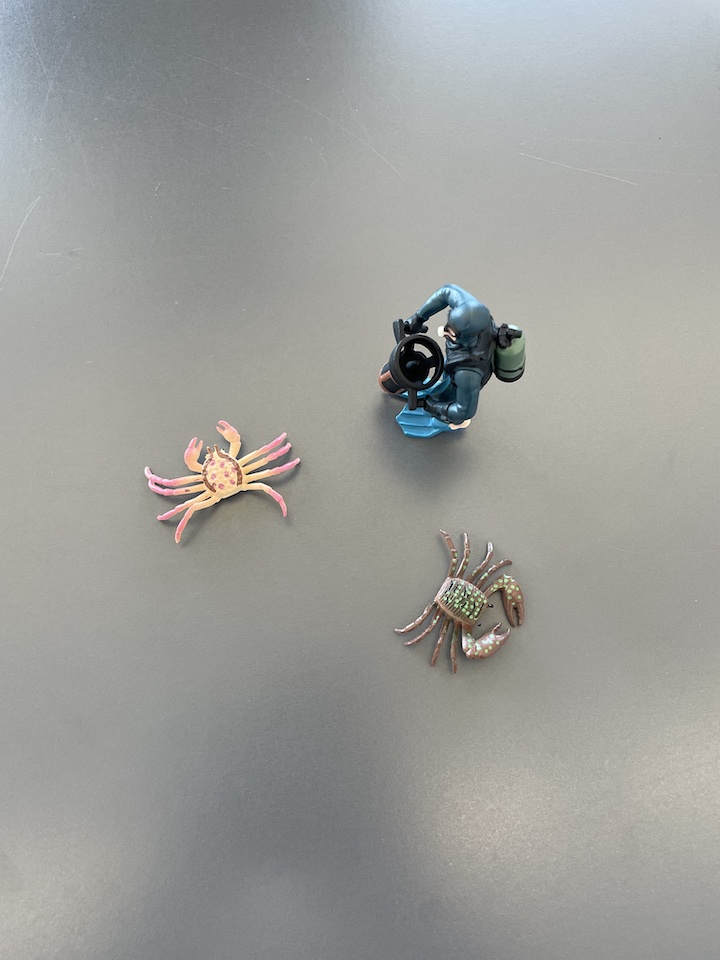crab: (137, 417, 308, 552), (391, 528, 531, 678)
diver: (378, 281, 530, 441)
